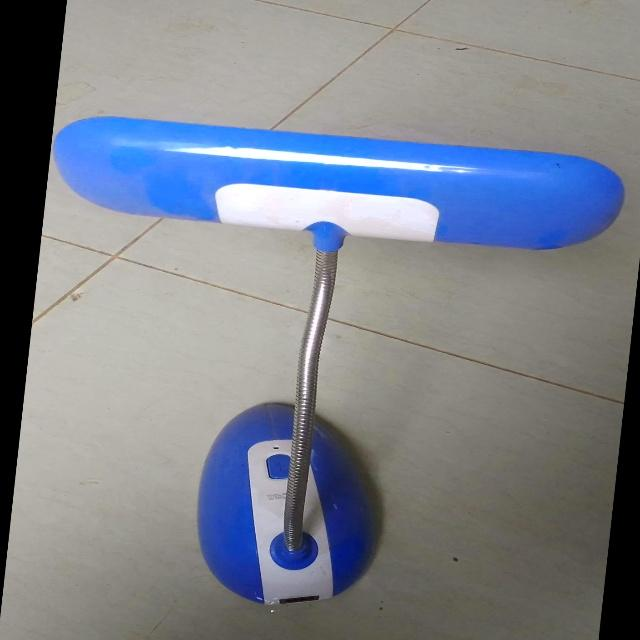Lantern: (2, 105, 640, 627)
